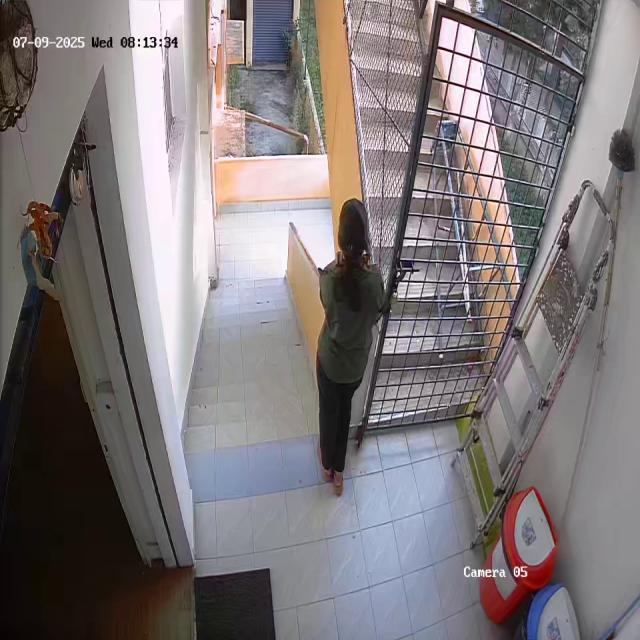person: (313, 196, 384, 494)
